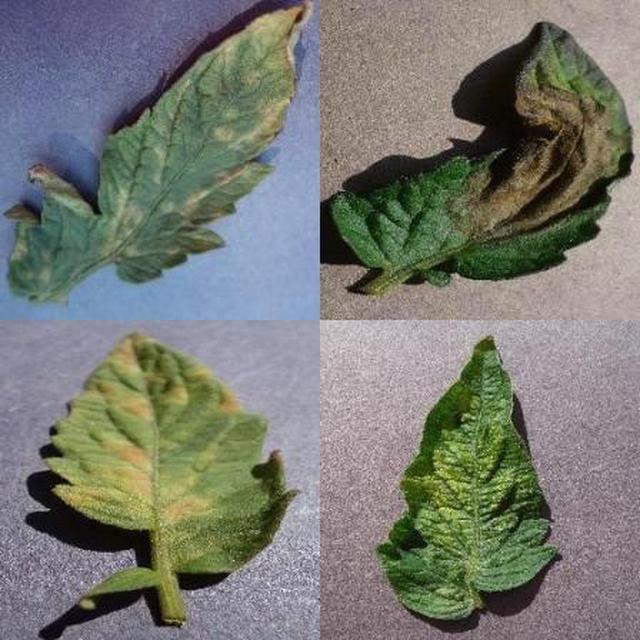Leaf Mold: (227, 219, 640, 640)
